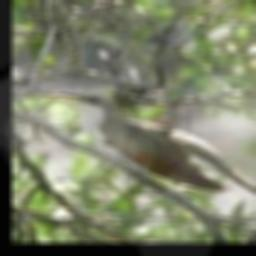Cuckoo: (45, 92, 256, 205)
